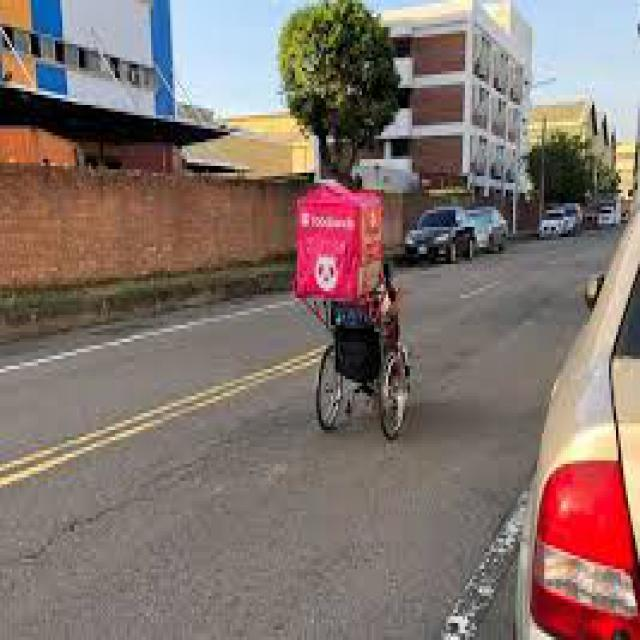wheelchairs: (299, 292, 426, 451)
